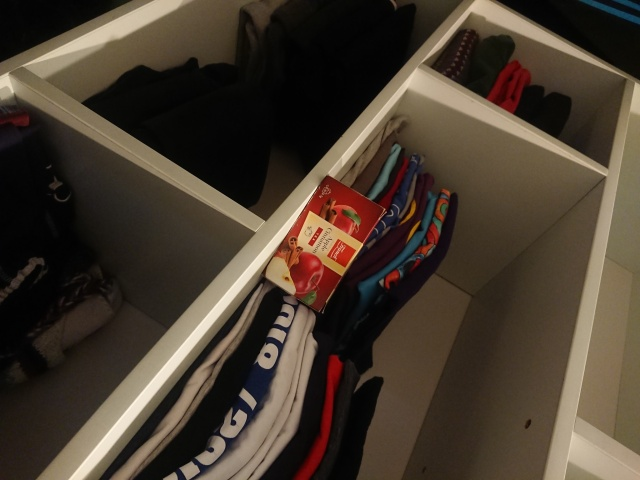Franck Apple Cinnamon Tea 60g: (258, 172, 386, 315)
